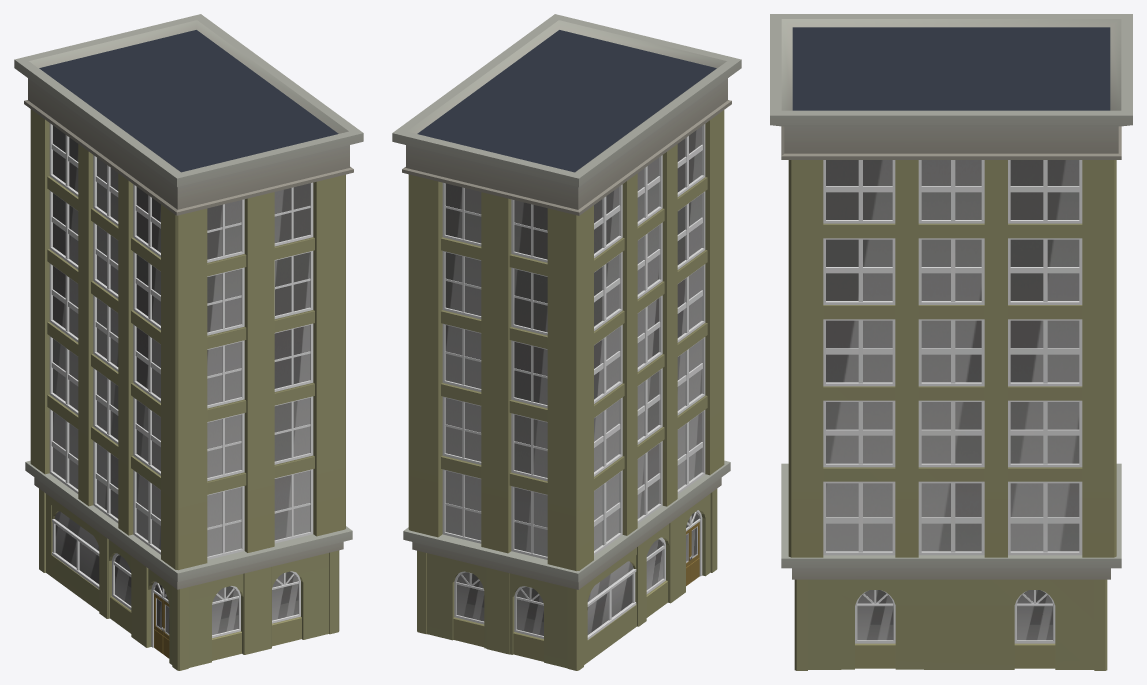
File: Building_27_P.glb
The picture shows the model from 3 angles, left to right: view 1: azimuth 30°, elevation 25°; view 2: azimuth 150°, elevation 25°; view 3: azimuth 270°, elevation 25°; orthographic projection. The views are drawn at different scales.
Parts seen in each view (by area): view 1: Building_27_P; view 2: Building_27_P; view 3: Building_27_P.
Part boxes in pixels (<box>): Building_27_P: <box>14,14,363,670</box>; Building_27_P: <box>392,14,741,670</box>; Building_27_P: <box>770,14,1132,670</box>.
Bounding box in the file's own units: 7.65 × 19.74 × 11.55.
3 materials, 3 textured.
